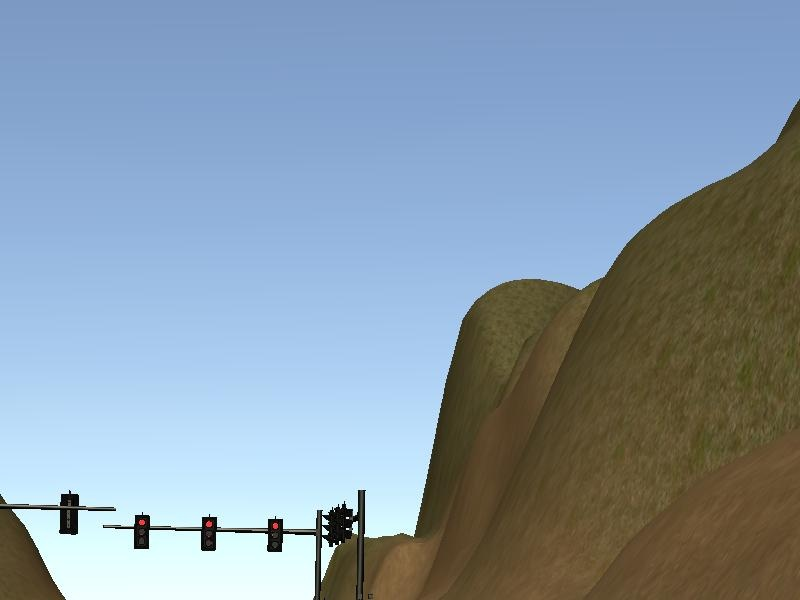red: (133, 513, 151, 552), (200, 515, 217, 553), (268, 518, 283, 553)
